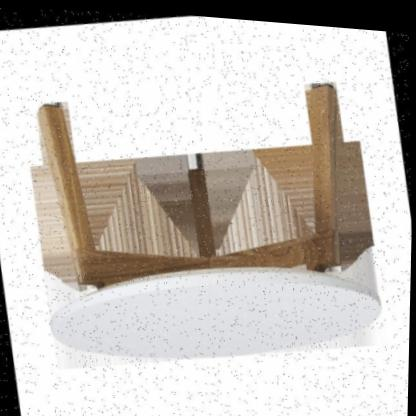Table: (0, 37, 415, 405)
